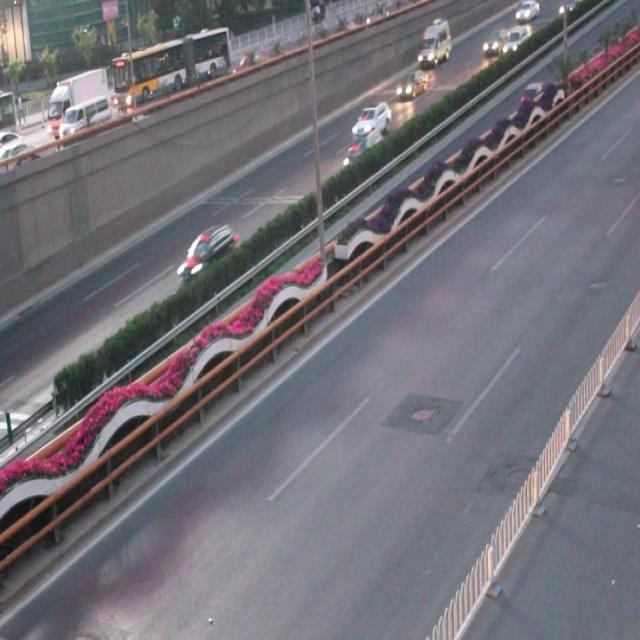car: (175, 223, 242, 276), (339, 130, 385, 168), (351, 100, 393, 138), (393, 65, 436, 101)
